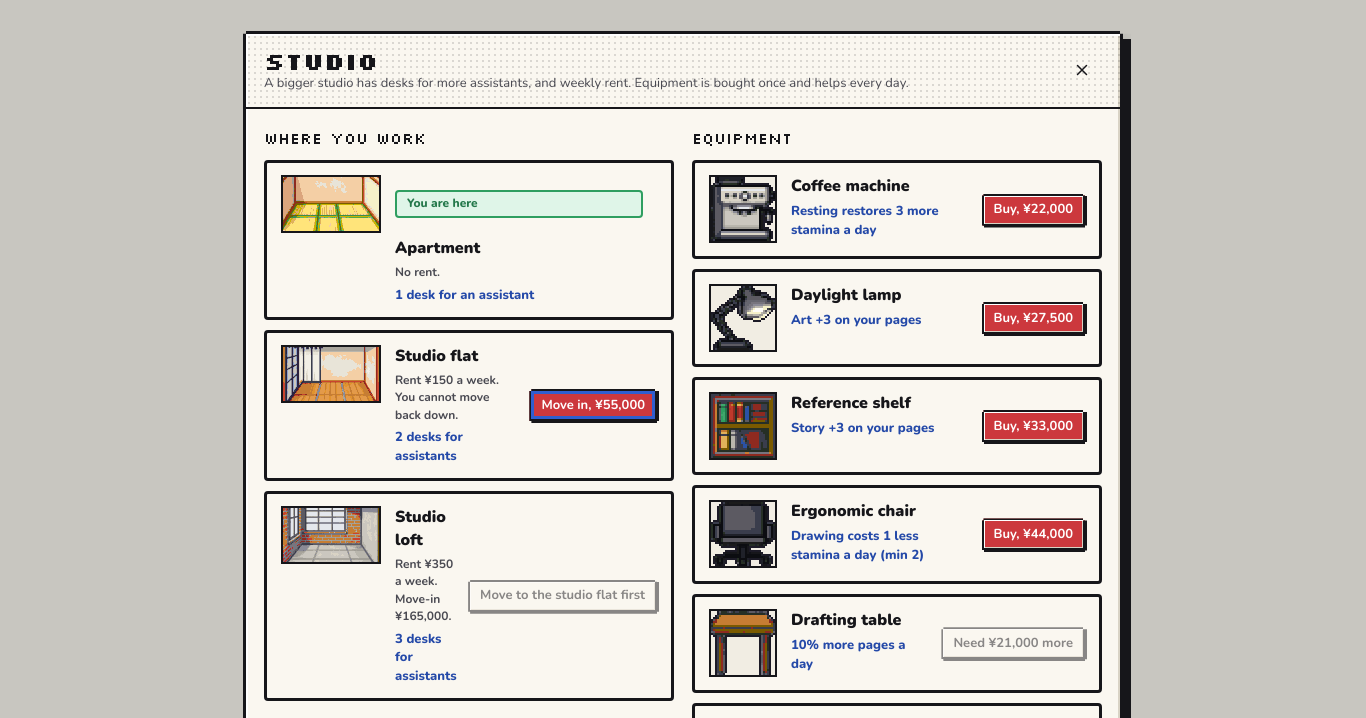
StudioModal › moves in on the second click, after a confirm, then offers the loft
Click the button "Move in, ¥55,000": [593, 405] box top-left (529, 389), bottom-right (657, 421)
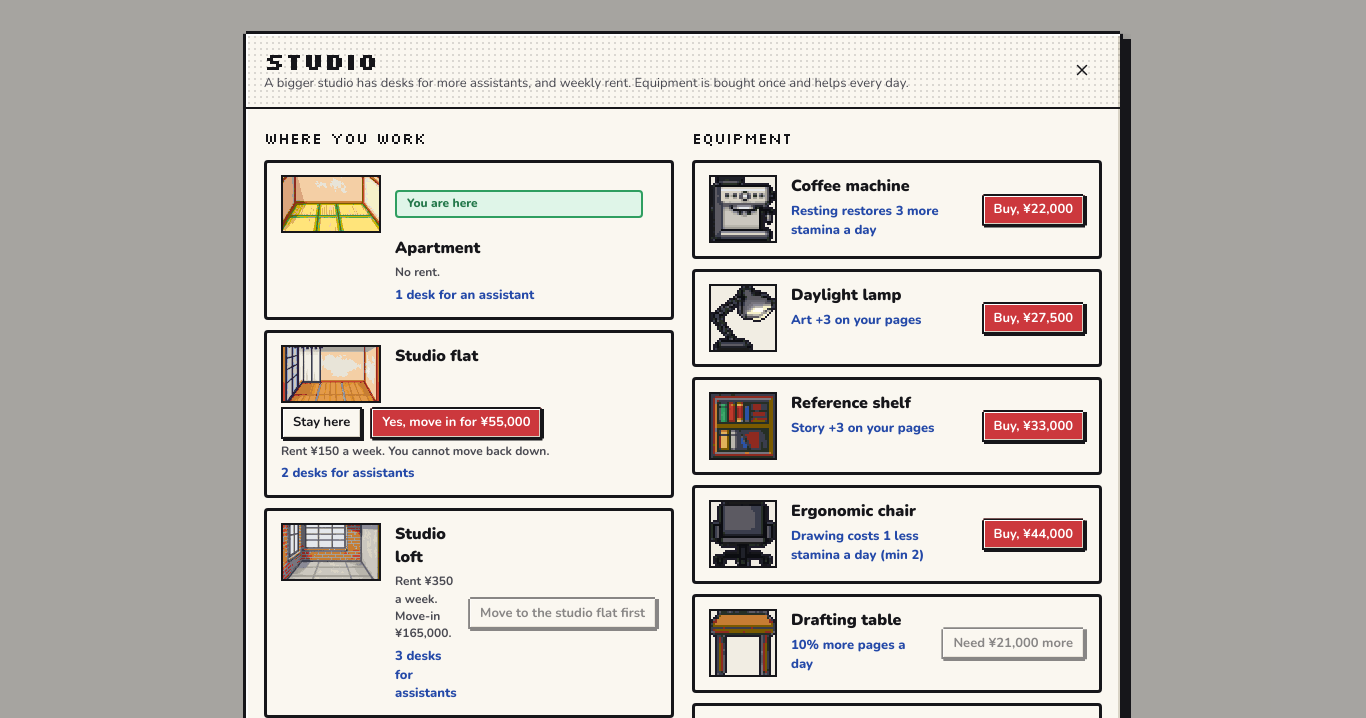
Click the button "Yes, move in for ¥55,000": [456, 423] box top-left (370, 407), bottom-right (542, 439)
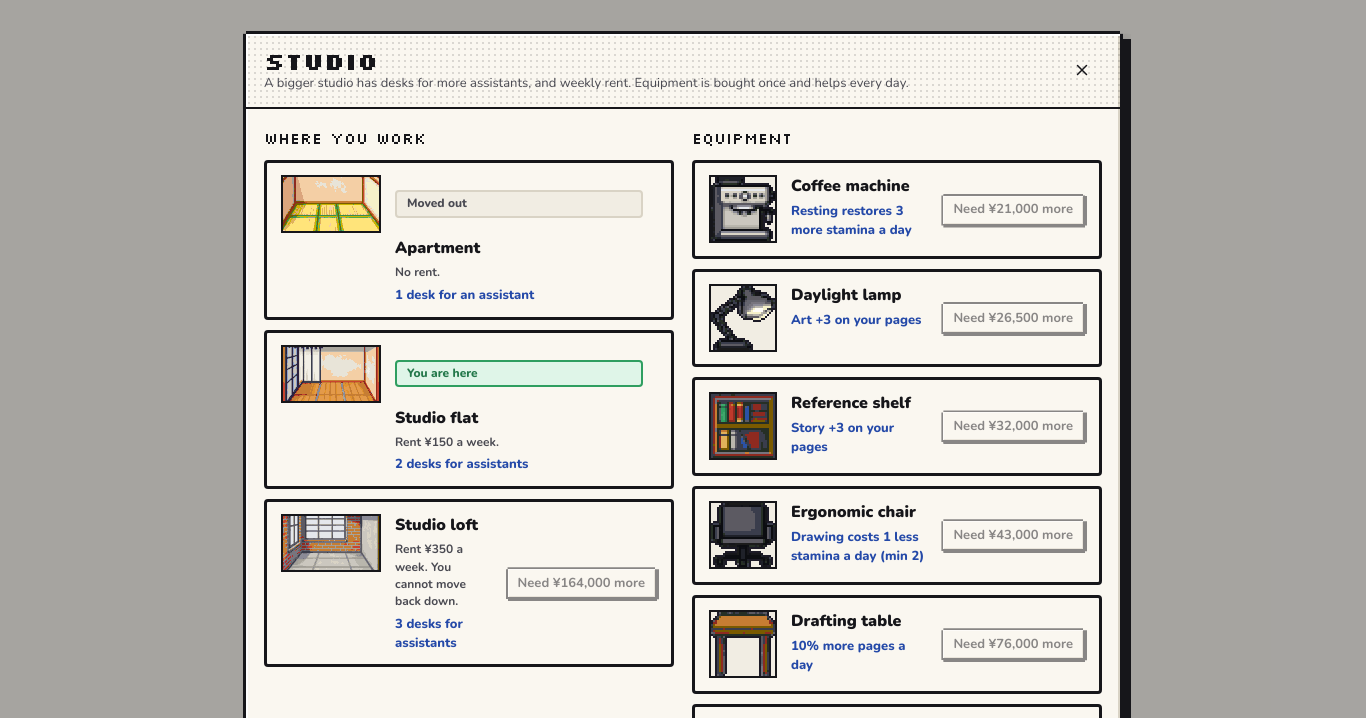
Check: the text "You are here" is shown, box top-left (395, 360), bottom-right (643, 387)
Check: the text "Moved out" is shown, box top-left (395, 190), bottom-right (643, 218)
Check: the text "Rent ¥350 a week. You cannot move back down." is shown, box top-left (395, 541), bottom-right (466, 609)
